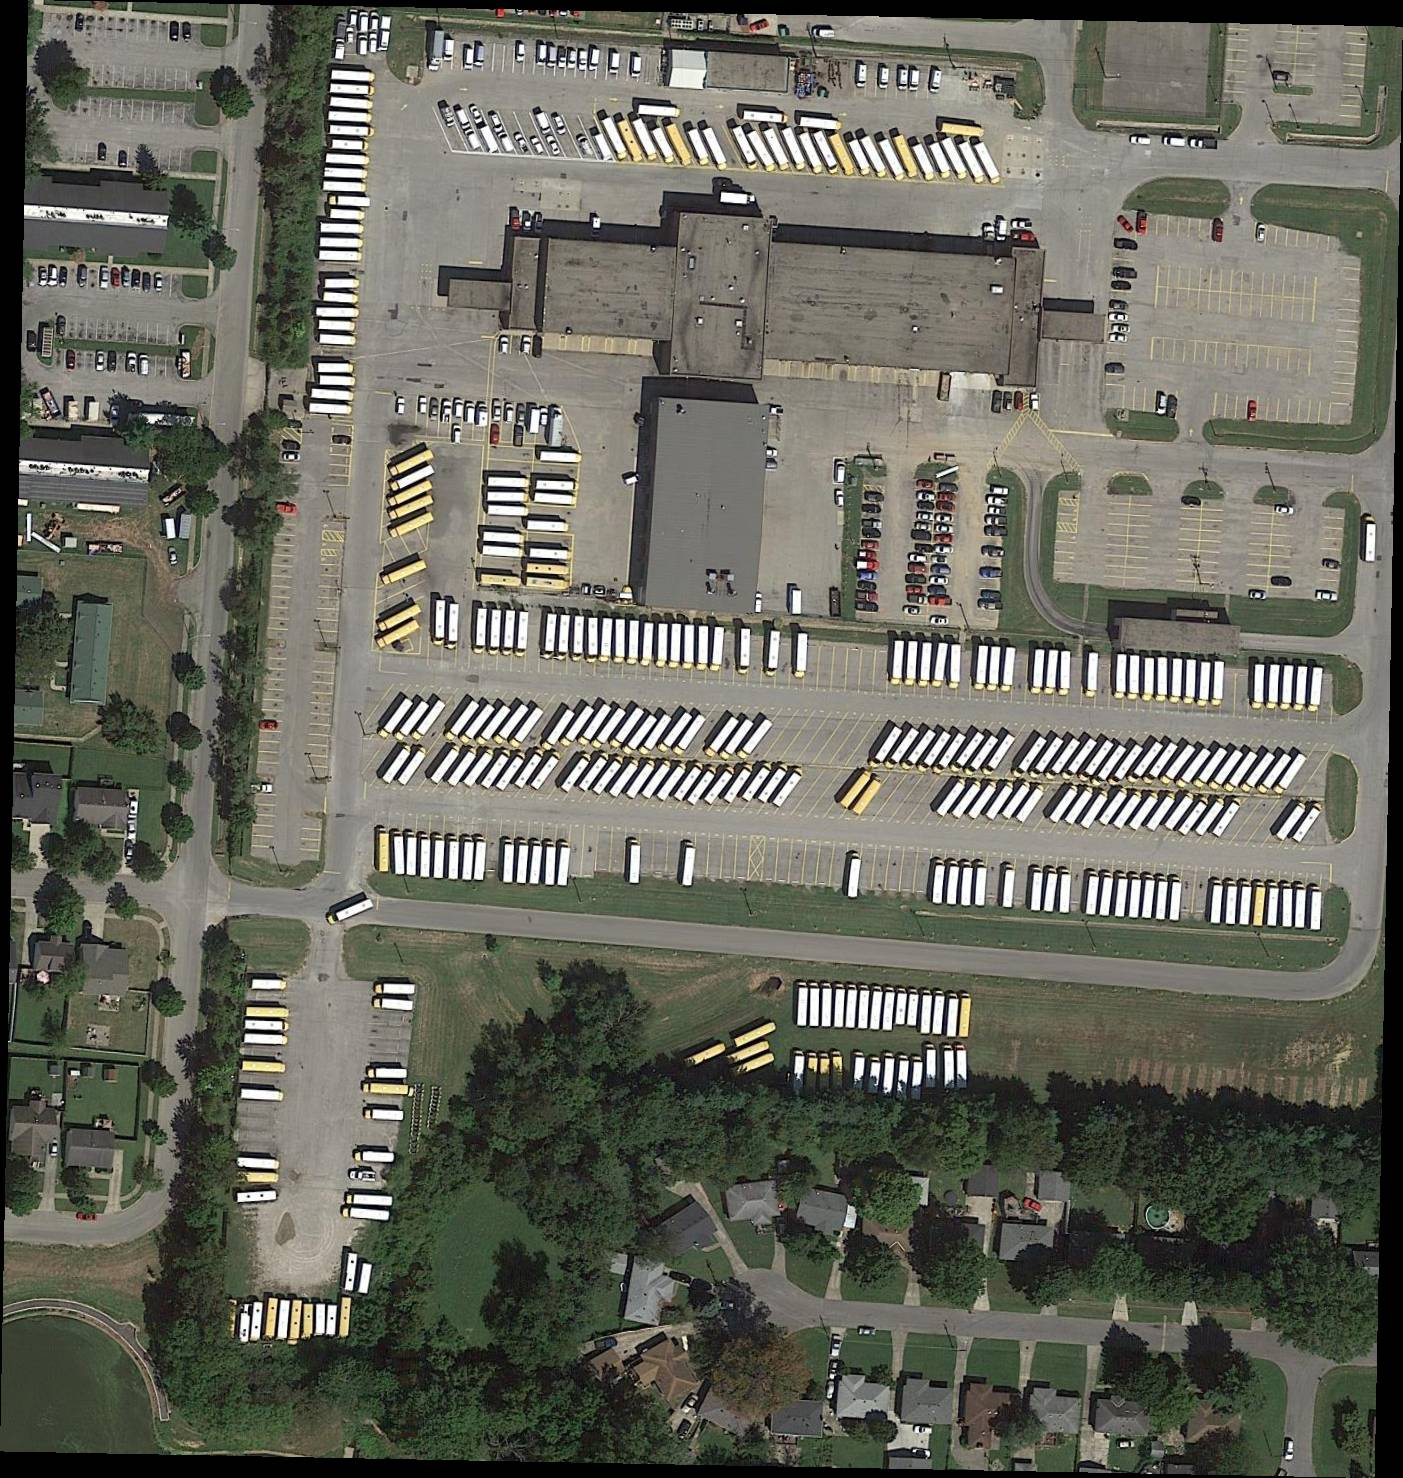large vehicle: (1061, 736, 1098, 782), (1127, 741, 1166, 784), (1011, 736, 1048, 781), (1046, 737, 1083, 782), (1079, 740, 1116, 784), (737, 719, 774, 762), (964, 734, 1001, 778), (1029, 737, 1065, 781), (1257, 753, 1294, 796), (578, 703, 613, 748), (446, 699, 481, 744), (949, 730, 985, 775), (1092, 744, 1127, 788), (916, 730, 952, 775), (885, 726, 920, 771), (869, 726, 905, 771), (611, 705, 645, 752), (982, 733, 1017, 779), (1145, 742, 1179, 788), (1108, 744, 1145, 786), (1222, 752, 1259, 794), (705, 715, 741, 758), (1241, 752, 1276, 795), (902, 729, 938, 773), (932, 732, 967, 777), (394, 701, 431, 742), (658, 712, 694, 754), (380, 697, 414, 741), (720, 719, 754, 762), (543, 708, 578, 752), (1274, 753, 1308, 796), (812, 129, 843, 178), (327, 897, 376, 927), (972, 140, 1005, 185), (378, 601, 423, 634), (622, 715, 658, 755), (1160, 745, 1196, 786), (1176, 748, 1212, 788), (494, 704, 529, 746), (510, 707, 545, 749), (560, 705, 595, 748), (672, 715, 707, 757), (1193, 748, 1228, 790), (640, 715, 672, 758), (1210, 749, 1243, 792), (591, 709, 626, 749), (411, 701, 446, 742), (460, 704, 494, 745), (641, 759, 674, 802), (840, 770, 874, 810), (479, 705, 512, 746), (703, 765, 736, 806), (771, 767, 804, 808), (1193, 798, 1226, 839), (1178, 796, 1210, 837), (389, 450, 435, 479), (388, 479, 434, 508), (390, 512, 436, 541), (748, 131, 779, 173), (1212, 796, 1243, 839), (853, 774, 885, 816), (951, 781, 985, 819), (592, 755, 625, 795), (763, 127, 792, 171), (389, 494, 434, 523), (893, 134, 922, 179), (742, 762, 774, 803), (579, 752, 611, 792), (1113, 790, 1145, 831), (1276, 802, 1308, 842), (1081, 788, 1112, 831), (880, 138, 909, 182), (666, 124, 695, 167), (733, 128, 762, 171), (684, 1042, 728, 1071), (732, 1051, 775, 1080), (377, 621, 421, 650), (1098, 787, 1131, 825), (936, 779, 969, 817), (609, 759, 641, 799), (829, 133, 857, 178), (734, 1019, 779, 1047), (724, 763, 754, 804), (758, 763, 789, 804), (448, 748, 479, 788), (464, 748, 494, 788), (496, 752, 526, 792), (514, 748, 545, 788), (1294, 803, 1324, 844), (625, 761, 657, 799), (657, 763, 688, 802), (560, 754, 592, 792), (1129, 792, 1160, 831), (1002, 781, 1034, 819), (968, 781, 1000, 819), (703, 129, 731, 173), (531, 752, 562, 791), (1149, 792, 1179, 832), (1065, 786, 1096, 825), (1050, 784, 1080, 824), (483, 749, 512, 790), (941, 138, 970, 179), (986, 781, 1015, 821), (382, 560, 427, 587), (392, 465, 436, 492), (960, 142, 988, 185), (632, 119, 659, 161), (728, 1039, 770, 1067), (674, 763, 704, 802), (398, 748, 429, 786), (431, 746, 462, 784), (1166, 792, 1196, 831), (1015, 784, 1046, 823), (781, 129, 810, 169), (860, 134, 887, 175), (618, 120, 645, 162), (688, 766, 716, 806), (384, 746, 411, 784), (603, 119, 629, 158), (800, 133, 825, 174), (912, 144, 939, 182), (930, 142, 955, 178), (651, 129, 676, 163), (931, 643, 949, 690), (851, 141, 873, 177), (680, 842, 698, 887), (376, 825, 392, 873), (1001, 646, 1017, 694), (709, 626, 725, 672), (794, 633, 810, 678), (941, 123, 986, 138), (1098, 873, 1114, 918), (556, 841, 572, 886), (941, 1046, 957, 1090), (1085, 872, 1101, 915), (1141, 875, 1156, 919), (473, 606, 488, 654), (690, 131, 709, 165), (766, 630, 781, 676), (392, 829, 406, 875), (542, 614, 556, 661), (345, 1206, 392, 1221), (974, 646, 989, 692), (1295, 666, 1309, 712), (529, 842, 545, 885), (1170, 877, 1184, 922), (433, 835, 447, 879), (891, 641, 906, 686), (832, 1051, 847, 1096), (1031, 650, 1046, 695), (549, 407, 564, 448), (931, 861, 945, 904), (1044, 869, 1059, 912), (988, 647, 1002, 691), (919, 642, 932, 690), (535, 490, 578, 505), (640, 624, 654, 666), (1114, 875, 1129, 918), (236, 1156, 278, 1171), (572, 617, 585, 663), (556, 614, 570, 661), (502, 610, 516, 657), (738, 629, 752, 675), (1114, 654, 1127, 700), (1280, 665, 1294, 711), (374, 998, 415, 1013), (277, 1297, 291, 1338), (247, 1018, 287, 1032), (600, 618, 613, 663), (848, 852, 861, 897), (448, 836, 462, 881), (502, 839, 516, 883), (545, 840, 558, 885), (796, 982, 810, 1027), (491, 610, 504, 655), (348, 1193, 393, 1206), (1184, 661, 1197, 705), (526, 563, 570, 576), (655, 624, 669, 667), (835, 984, 848, 1027), (745, 111, 789, 124), (239, 1169, 278, 1184), (244, 1032, 287, 1046), (1046, 651, 1059, 695), (1267, 665, 1280, 708), (488, 504, 530, 517), (530, 547, 572, 560), (330, 109, 372, 123), (324, 167, 367, 181), (800, 117, 843, 131), (1127, 657, 1141, 699), (344, 1253, 359, 1291), (1156, 875, 1168, 922), (475, 836, 487, 882), (947, 991, 959, 1038), (792, 1049, 804, 1096), (1239, 879, 1251, 926), (949, 645, 961, 691), (1059, 651, 1071, 697), (1087, 653, 1098, 699), (541, 450, 582, 463), (484, 531, 525, 545), (483, 545, 523, 558), (480, 574, 521, 587), (251, 1301, 264, 1342), (243, 1088, 284, 1101), (247, 1006, 287, 1019), (628, 620, 640, 665), (1003, 864, 1015, 908), (463, 836, 475, 881), (516, 839, 527, 883), (629, 839, 641, 883), (810, 982, 821, 1027), (517, 613, 529, 658), (588, 618, 600, 663), (684, 624, 696, 668), (1210, 881, 1222, 926), (1254, 882, 1266, 927), (1156, 658, 1168, 703), (1309, 667, 1321, 712), (237, 1189, 277, 1202), (526, 577, 570, 589), (698, 626, 709, 670), (332, 70, 376, 82), (330, 98, 373, 109), (326, 153, 369, 165), (310, 403, 353, 415), (947, 861, 959, 904), (974, 862, 986, 906), (1129, 875, 1141, 919), (421, 835, 433, 878), (311, 389, 355, 401), (883, 986, 895, 1030), (365, 1084, 409, 1096), (819, 1053, 831, 1097), (926, 1046, 938, 1089), (906, 642, 918, 686), (1199, 662, 1210, 705), (1213, 662, 1225, 705), (265, 1297, 278, 1336), (537, 479, 579, 490), (448, 603, 459, 650), (1283, 882, 1294, 930), (489, 476, 531, 488), (243, 1060, 285, 1072), (614, 618, 625, 665), (435, 601, 446, 647), (807, 1052, 818, 1098), (1254, 665, 1265, 711), (1172, 659, 1183, 705), (529, 519, 570, 531), (640, 105, 680, 117), (858, 986, 870, 1027), (224, 1297, 236, 1338), (377, 984, 418, 995), (359, 1263, 374, 1293), (670, 624, 680, 668), (331, 84, 376, 95), (330, 127, 374, 137), (1060, 869, 1071, 914), (407, 831, 418, 875), (883, 1051, 894, 1096), (960, 994, 970, 1039), (959, 1046, 969, 1090), (1295, 883, 1305, 928), (1311, 886, 1321, 931), (239, 1303, 251, 1342), (291, 1299, 303, 1338), (332, 138, 368, 152), (961, 862, 972, 906), (1031, 868, 1042, 911), (823, 984, 833, 1027), (1267, 883, 1278, 927), (369, 1067, 407, 1079), (357, 1151, 396, 1163), (869, 1057, 881, 1096), (324, 181, 367, 191), (320, 251, 363, 261), (320, 237, 363, 248), (316, 306, 359, 316), (935, 991, 945, 1034), (1145, 659, 1155, 701), (319, 320, 356, 332), (324, 293, 361, 305), (488, 493, 529, 504), (331, 210, 367, 222), (320, 334, 356, 345), (320, 374, 356, 386), (365, 1110, 405, 1121), (922, 988, 931, 1032), (253, 980, 287, 991), (320, 224, 364, 233), (1226, 882, 1236, 926), (849, 985, 858, 1027), (854, 1052, 865, 1089), (330, 196, 371, 206), (897, 989, 907, 1024), (340, 1297, 349, 1337), (326, 278, 360, 289), (316, 1304, 327, 1336), (327, 1304, 338, 1336), (319, 363, 353, 372), (305, 1304, 314, 1336)
small vehicle: (425, 26, 444, 71), (479, 124, 500, 154), (576, 133, 596, 160), (533, 109, 552, 136), (1189, 137, 1222, 152), (454, 105, 472, 131), (514, 132, 533, 157), (488, 109, 505, 134), (464, 129, 483, 152), (440, 104, 458, 128), (468, 103, 485, 127), (498, 132, 516, 156), (551, 113, 568, 137), (1109, 280, 1137, 294), (978, 599, 1006, 613), (930, 69, 945, 94), (1210, 218, 1226, 243), (1154, 392, 1170, 417), (1116, 214, 1135, 233), (1163, 134, 1187, 150), (982, 545, 1007, 559), (276, 501, 301, 516), (334, 15, 348, 40), (854, 62, 868, 88), (1114, 239, 1141, 252), (530, 134, 546, 156), (878, 65, 891, 90), (996, 218, 1009, 243), (1166, 396, 1179, 421), (854, 601, 880, 614), (442, 38, 456, 61), (555, 46, 570, 69), (124, 352, 138, 374), (589, 214, 603, 237), (1114, 268, 1141, 280), (1181, 496, 1205, 509), (934, 543, 957, 556), (47, 264, 61, 287), (357, 11, 371, 34), (916, 489, 938, 504), (546, 134, 560, 156), (509, 206, 521, 231), (475, 42, 487, 67), (609, 50, 621, 75), (1137, 210, 1149, 235), (251, 783, 276, 795), (936, 500, 959, 513), (1130, 134, 1152, 148), (1247, 401, 1261, 423), (1316, 589, 1338, 603), (992, 392, 1003, 415), (980, 567, 1003, 579), (906, 595, 930, 606), (916, 479, 938, 492), (988, 494, 1009, 508), (589, 46, 600, 73), (1255, 223, 1269, 244), (369, 11, 382, 32), (864, 492, 886, 504), (463, 47, 475, 70), (535, 44, 547, 66), (1109, 301, 1131, 312), (857, 589, 880, 601), (36, 265, 47, 287), (429, 398, 440, 421), (898, 66, 909, 91), (910, 67, 920, 92), (632, 53, 642, 78), (981, 589, 1001, 603), (930, 614, 949, 628), (985, 526, 1009, 537), (835, 461, 847, 483), (939, 483, 960, 494), (988, 516, 1009, 527), (936, 513, 957, 525), (534, 210, 545, 233), (516, 41, 527, 62), (547, 45, 558, 69), (1108, 312, 1131, 323), (907, 574, 928, 585), (930, 596, 953, 606), (169, 18, 179, 42), (57, 316, 69, 338), (65, 349, 76, 370), (94, 349, 105, 370), (380, 30, 392, 51), (334, 40, 345, 61), (357, 36, 369, 57), (567, 47, 578, 70), (579, 49, 589, 71), (1271, 71, 1294, 82), (856, 571, 878, 581), (78, 265, 88, 287), (988, 506, 1007, 518), (935, 523, 955, 535), (1106, 363, 1126, 374), (909, 552, 928, 564), (928, 585, 948, 597), (854, 560, 880, 570), (100, 265, 109, 290), (833, 490, 847, 508), (522, 212, 533, 233), (911, 530, 932, 541), (1271, 576, 1292, 587), (861, 526, 882, 537), (858, 581, 880, 592), (138, 353, 149, 374), (1323, 558, 1341, 570), (117, 149, 129, 167), (396, 397, 407, 415), (368, 36, 380, 54), (1029, 396, 1042, 411), (990, 487, 1010, 497), (914, 521, 934, 531), (1112, 324, 1131, 335), (1247, 589, 1267, 600), (1003, 392, 1014, 411), (861, 541, 881, 551), (907, 563, 927, 574), (856, 551, 878, 560), (939, 492, 957, 502), (861, 504, 882, 513), (862, 519, 883, 529), (931, 575, 949, 585), (931, 566, 952, 575), (261, 720, 280, 730), (142, 272, 152, 293), (132, 269, 141, 290), (182, 22, 193, 41), (108, 349, 116, 373), (59, 268, 69, 287), (111, 268, 120, 287), (332, 436, 352, 446), (916, 512, 934, 522), (1276, 505, 1294, 516), (936, 534, 953, 545), (74, 15, 84, 32), (1015, 392, 1025, 410), (1110, 334, 1129, 343), (98, 142, 107, 161), (154, 273, 164, 291), (919, 502, 936, 512), (916, 545, 934, 554), (905, 606, 922, 616), (907, 585, 924, 595), (419, 398, 429, 415), (349, 9, 359, 26), (347, 26, 356, 44), (123, 268, 131, 287), (931, 556, 947, 566), (282, 454, 301, 461)
